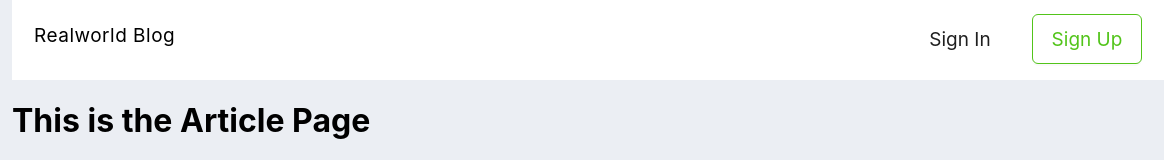
Component: Header › should redirect to the Main Page when logo is clicked
Expected: the heading "This is the Article Page" is shown, [12,101,370,140]
Click the link "Realworld Blog" at (105, 35), box [34,24,175,46]
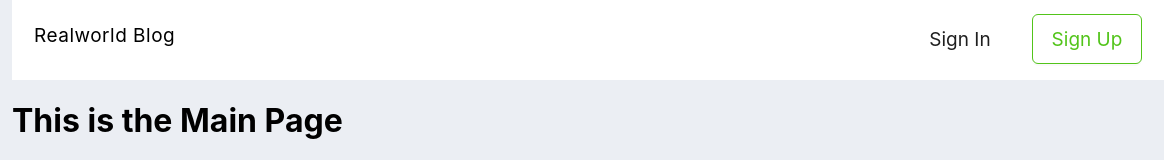
Now the heading "This is the Main Page" is shown, box [12,101,343,140]
